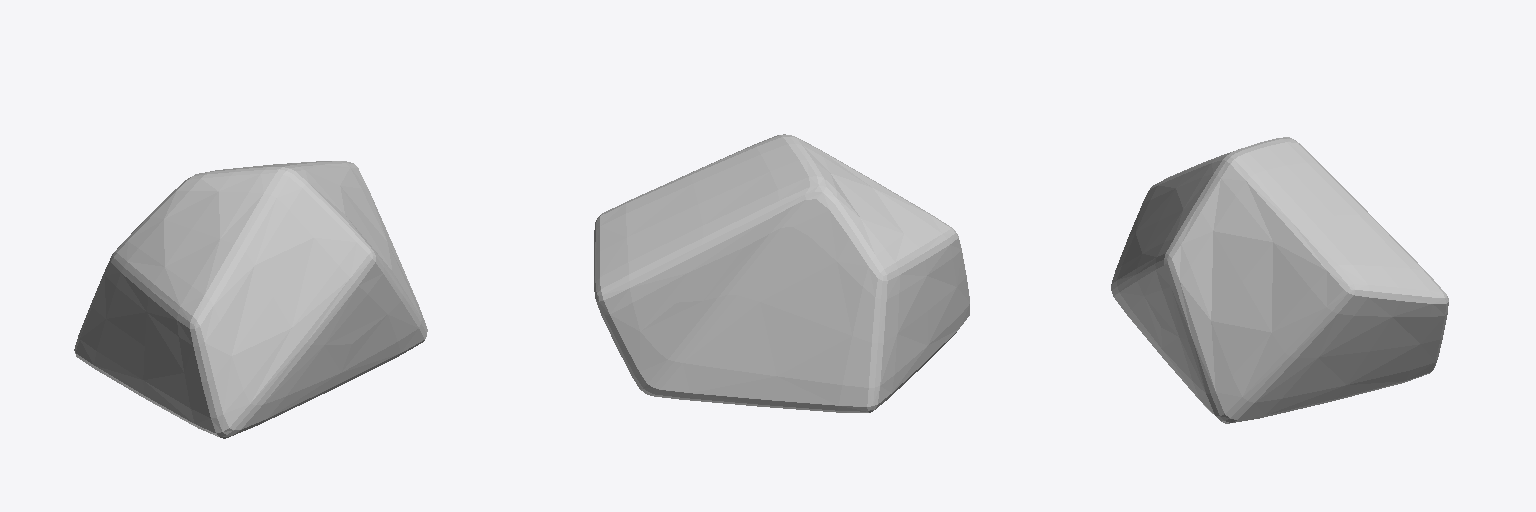
The model's file is rock_tree2_02.obj.
3 renders of one model, left to right at view 1: azimuth 30°, elevation 25°; view 2: azimuth 150°, elevation 25°; view 3: azimuth 270°, elevation 25°, orthographic.
Parts seen in each view (by area): view 1: rock_tree2_02 Rocks; view 2: rock_tree2_02 Rocks; view 3: rock_tree2_02 Rocks.
Part boxes in pixels (x1,y1,x2,y2): rock_tree2_02 Rocks: (74,161,427,438); rock_tree2_02 Rocks: (594,134,969,412); rock_tree2_02 Rocks: (1111,137,1448,423).
Size of the model in its own units: 0.549 by 0.3717 by 0.5534.